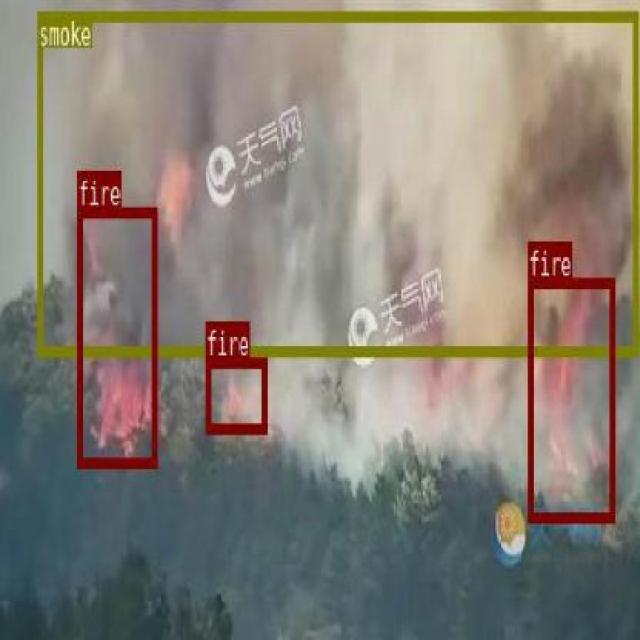Fire: (528, 276, 614, 522), (76, 206, 156, 465), (206, 356, 266, 430)
Smoke: (37, 9, 637, 356)
